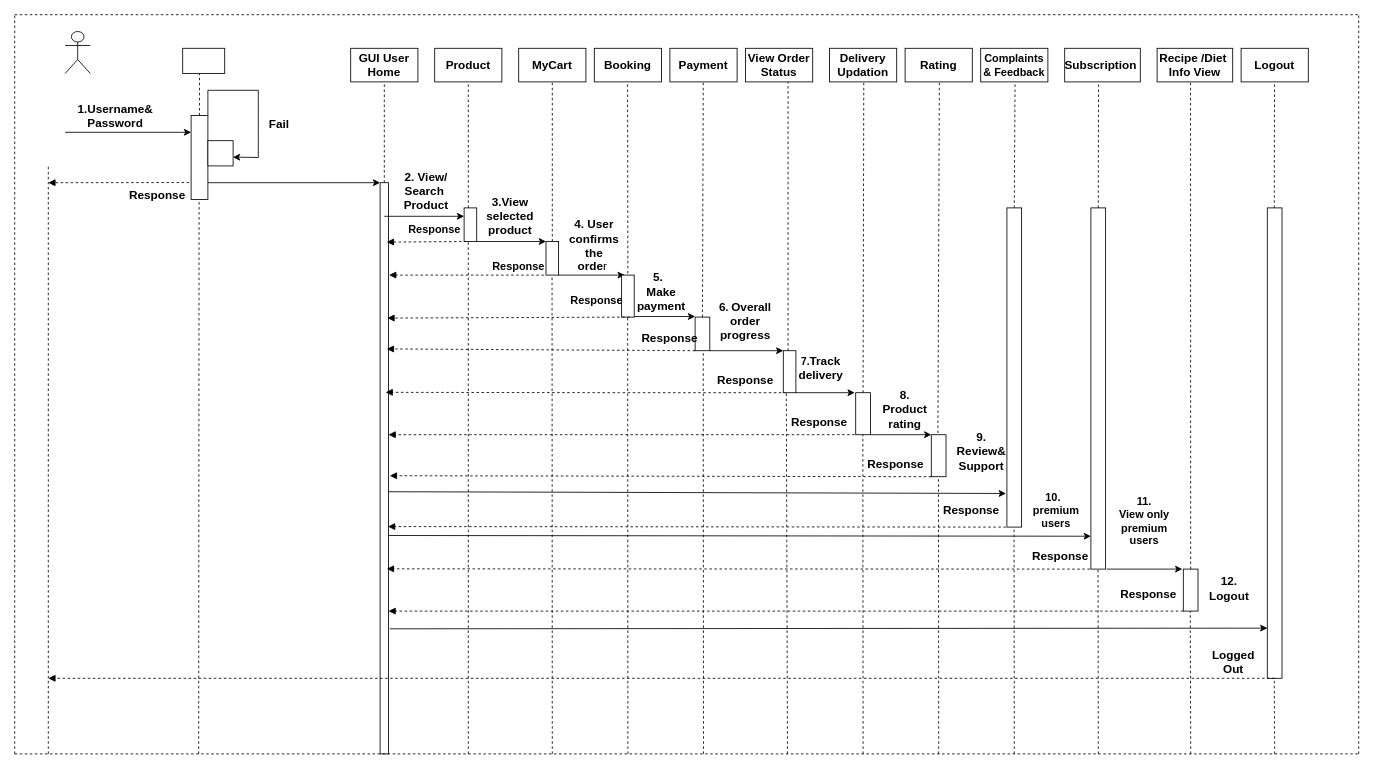
Image size: 1374x769. Some labels were removed from this diagram. The centre of each missing label's shape, as x and y in pixels:
Login: point 203,60
User: point 77,52
